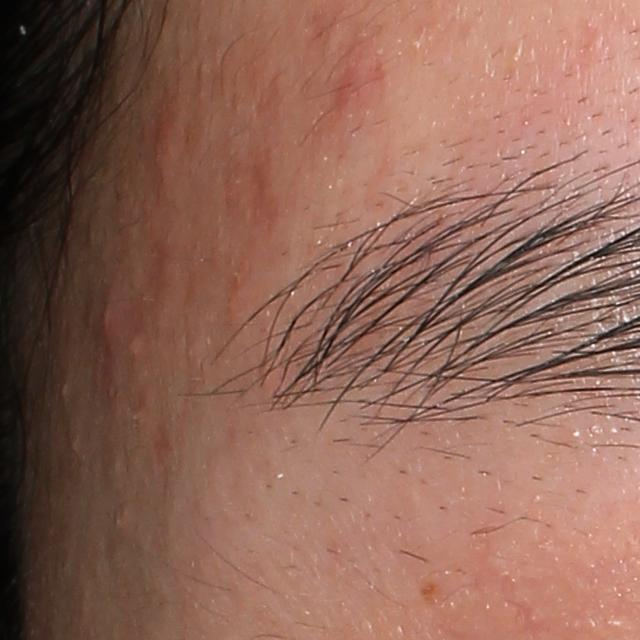papule: (328, 36, 384, 112), (96, 286, 123, 358), (150, 113, 179, 176)
